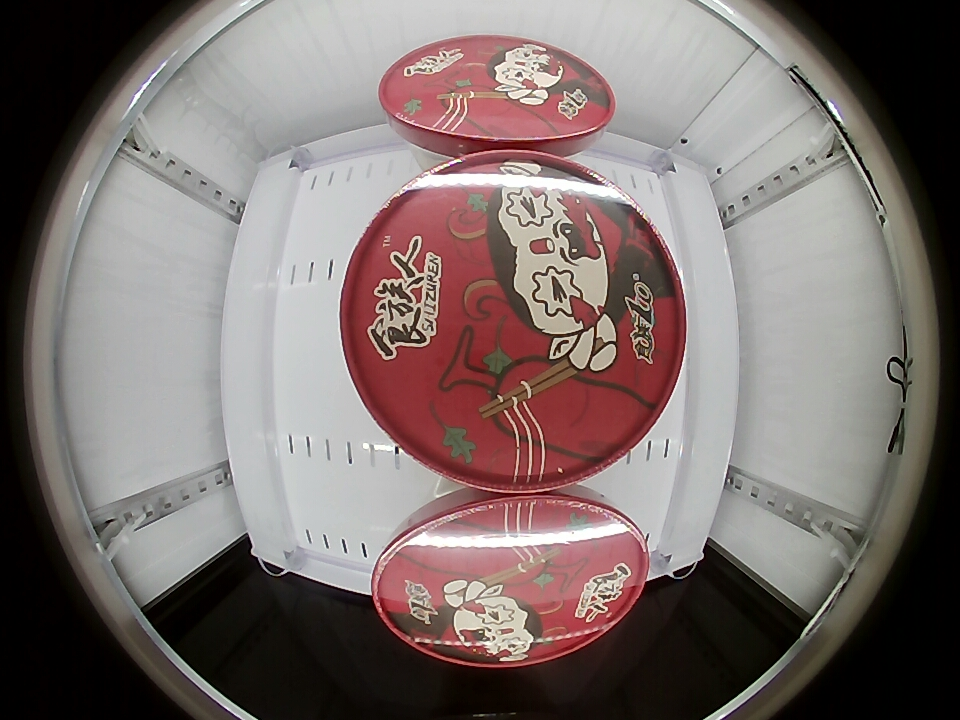suanlafen: (339, 149, 689, 490), (370, 490, 652, 667), (377, 37, 618, 160)
